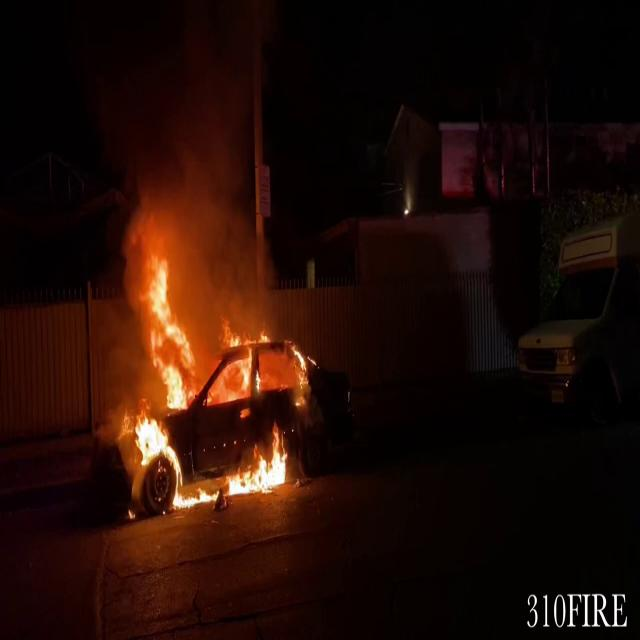Fire: (120, 245, 299, 510)
Smoke: (85, 2, 292, 256)
